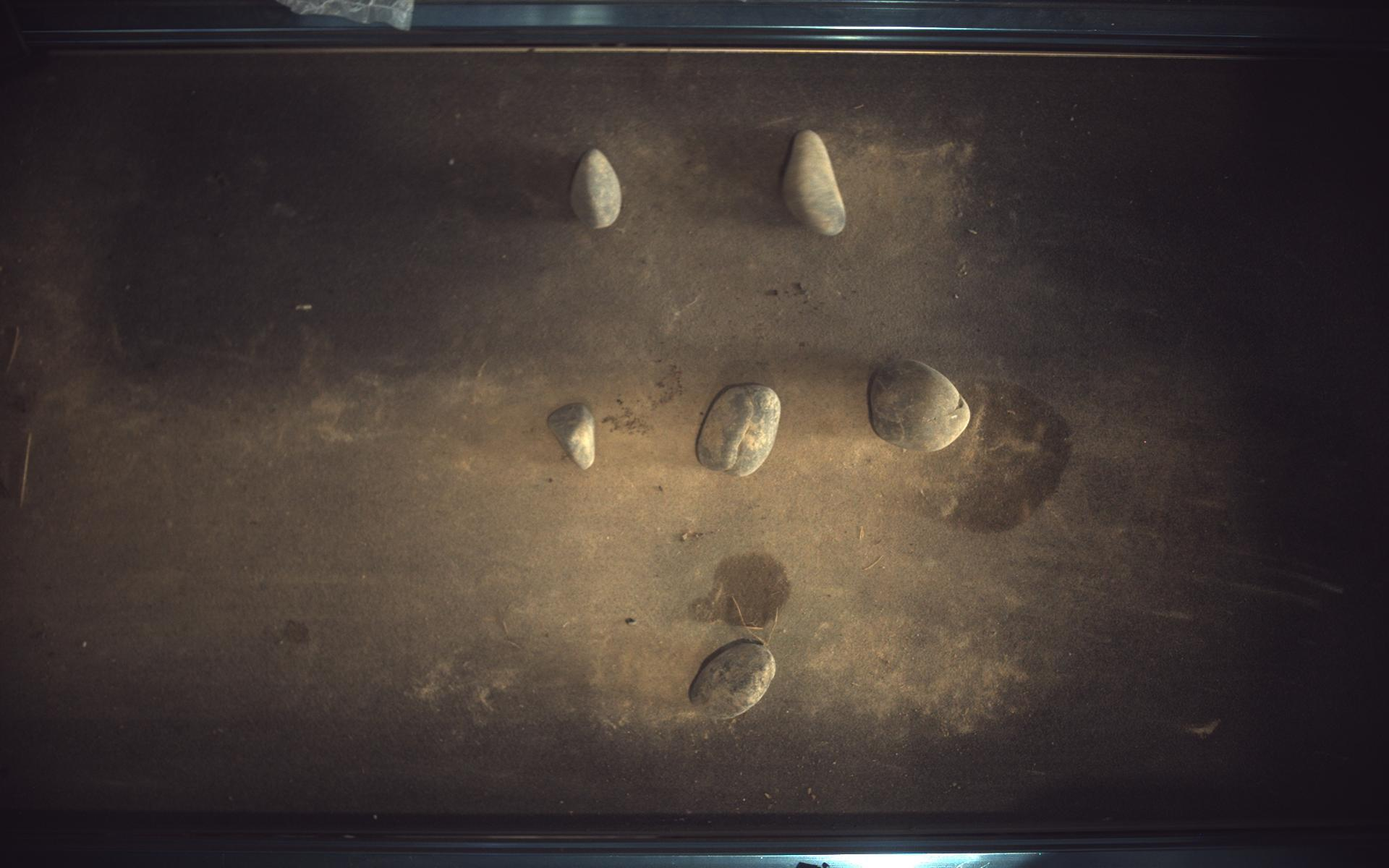stone: (871, 360, 973, 452), (698, 384, 782, 477), (689, 640, 777, 722), (783, 129, 848, 235), (571, 148, 622, 228), (548, 404, 595, 470)
